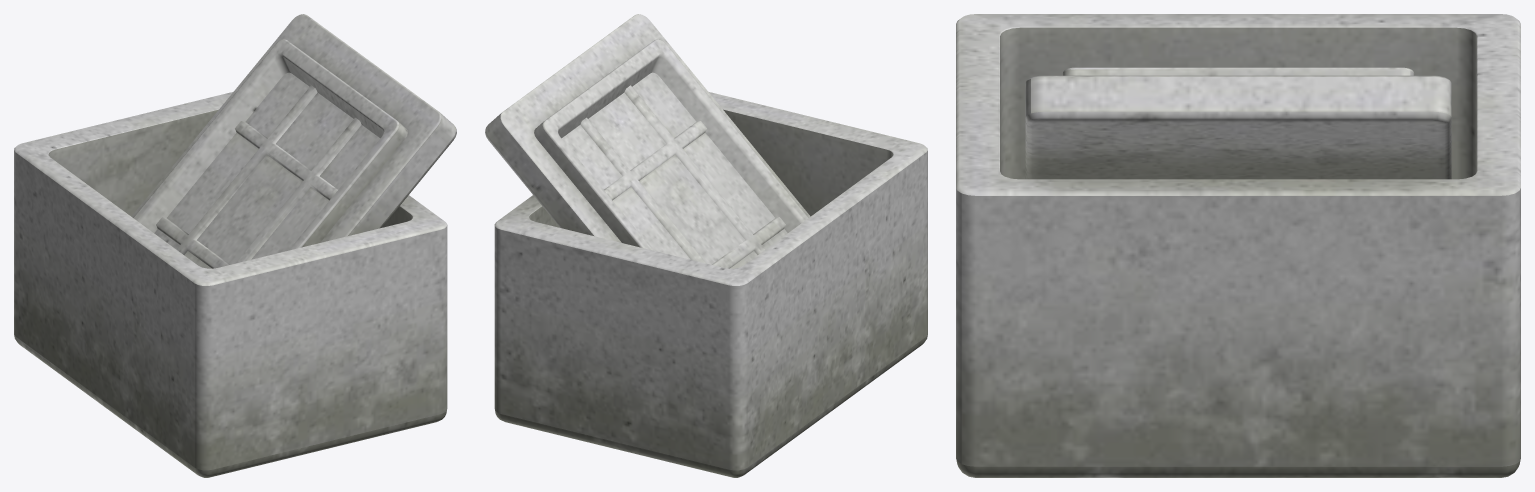
The model's file is in_foam_box.glb.
The picture shows the model from 3 angles, left to right: view 1: azimuth 30°, elevation 25°; view 2: azimuth 150°, elevation 25°; view 3: azimuth 270°, elevation 25°; orthographic projection. The views are drawn at different scales.
Visible parts, largest first — view 1: polySurface5_standardSurface3_0; view 2: polySurface5_standardSurface3_0; view 3: polySurface5_standardSurface3_0.
Part boxes in pixels (x1,y1,x2,y2): polySurface5_standardSurface3_0: (14,14,456,477); polySurface5_standardSurface3_0: (485,14,927,477); polySurface5_standardSurface3_0: (956,14,1520,477).
Bounding box in the file's own units: 0.4263 × 0.4098 × 0.5.
Materials: 1 (1 with a texture image).
